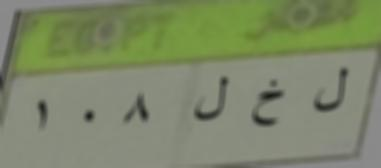0: (74, 100, 102, 131)
1: (30, 90, 54, 134)
8: (118, 87, 152, 130)
khaa: (249, 71, 286, 136)
laam: (312, 59, 351, 119), (191, 70, 235, 122)
